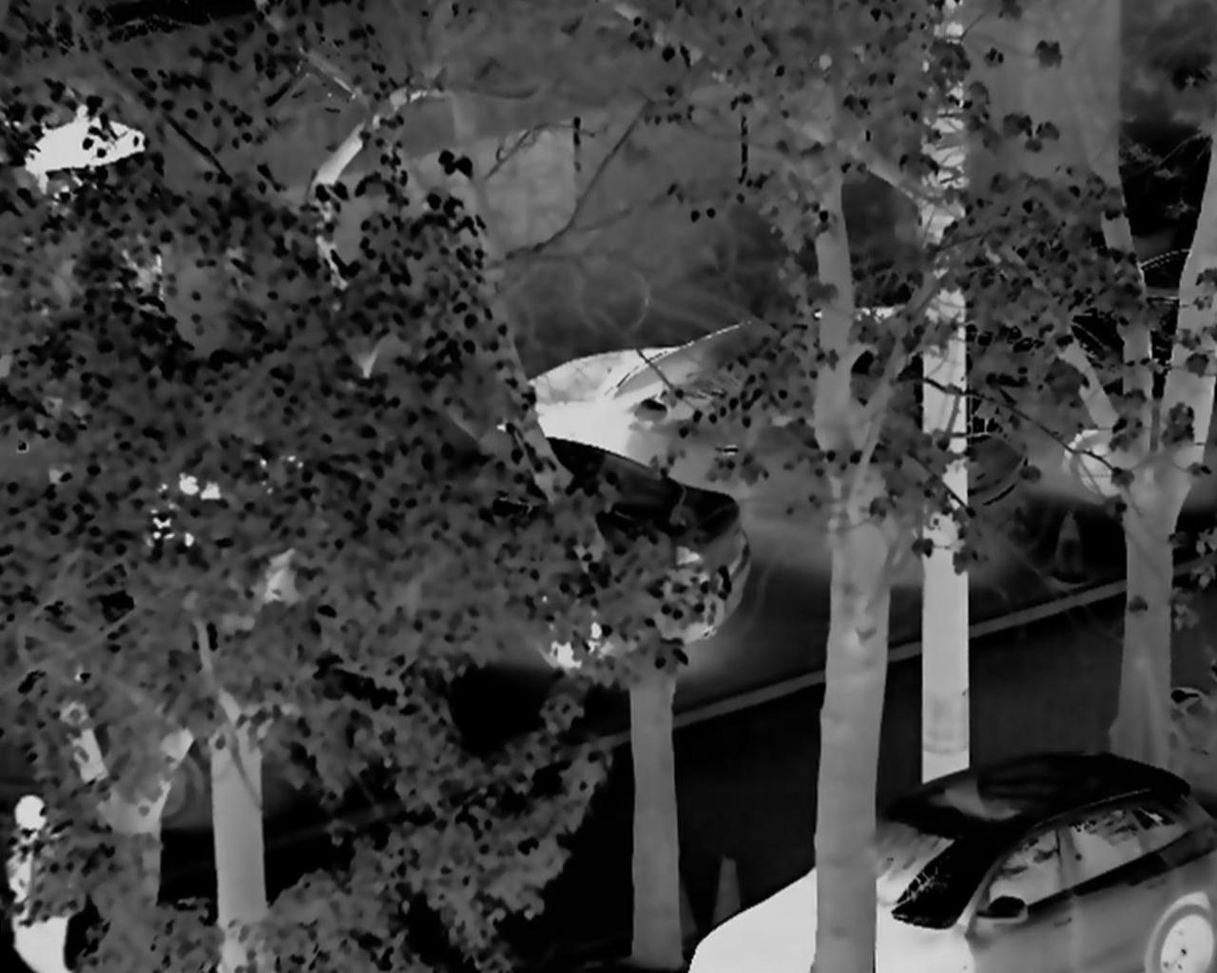person: (8, 795, 80, 973)
